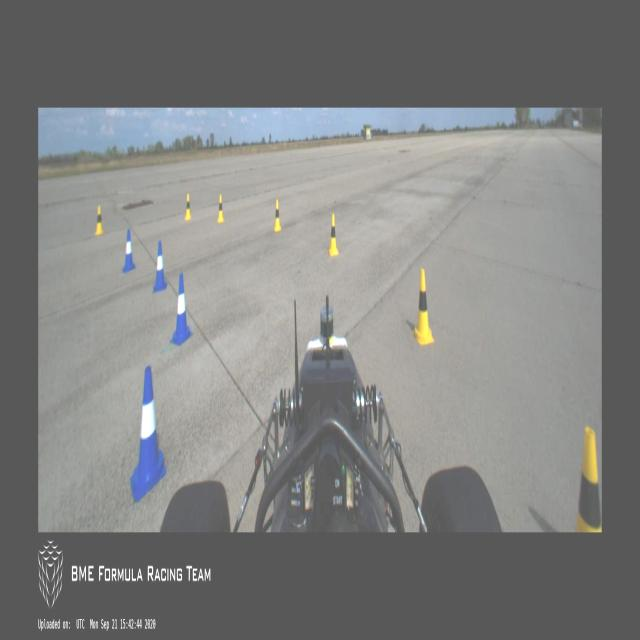blue_cone: (130, 366, 166, 504), (170, 272, 193, 346), (152, 238, 168, 294), (122, 230, 136, 274)
yellow_cone: (575, 426, 602, 532), (412, 269, 434, 345), (328, 213, 338, 256), (95, 206, 104, 237), (274, 200, 282, 232), (184, 194, 192, 220), (217, 195, 224, 223)
